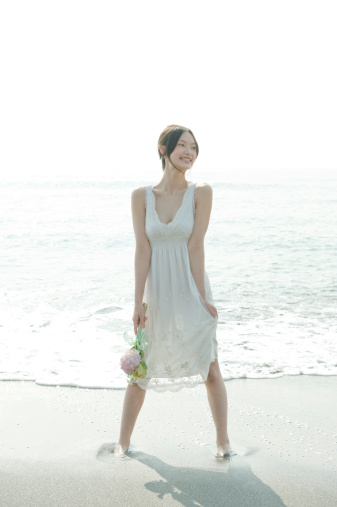em pe: (111, 115, 228, 469)
